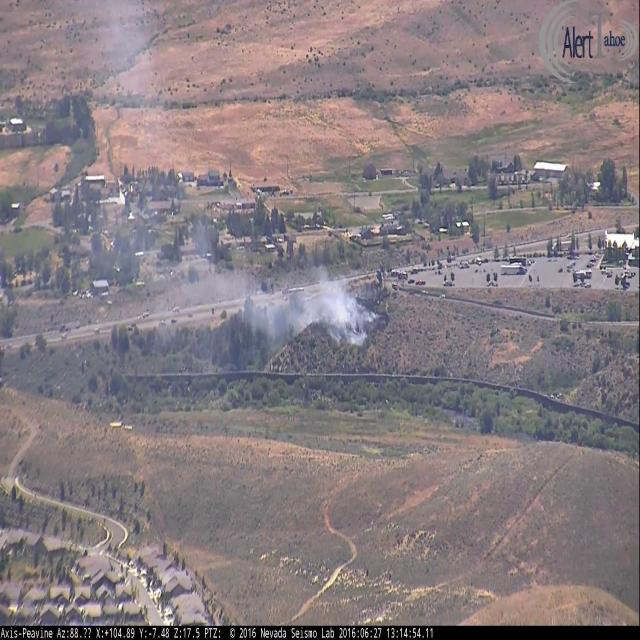smoke: (67, 7, 392, 360)
